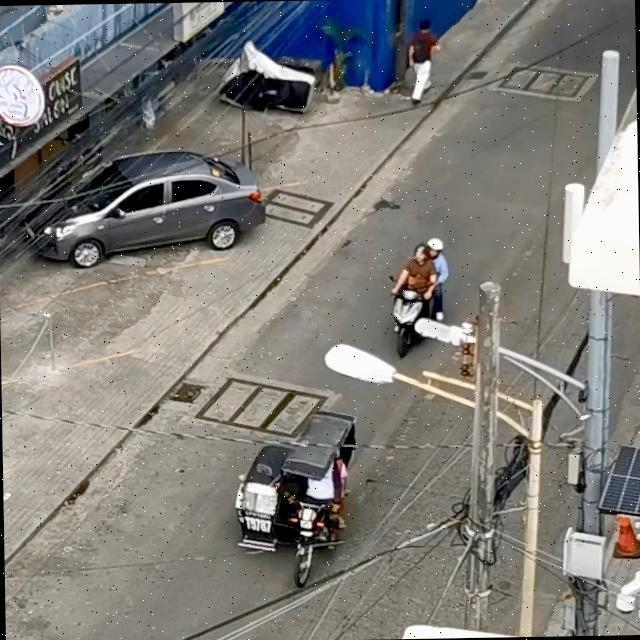Motorcycle: (376, 222, 456, 374)
Tricycle: (218, 397, 374, 598)
